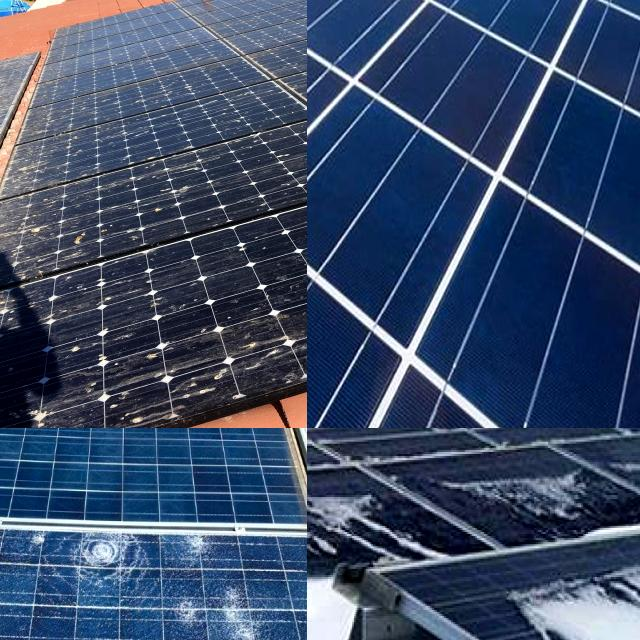crack: (307, 0, 640, 428)
dust: (164, 169, 307, 299), (0, 336, 196, 425), (7, 186, 129, 310), (46, 70, 114, 172), (245, 331, 307, 371)
hotspot: (170, 589, 265, 640), (71, 538, 159, 590), (170, 538, 242, 580), (0, 524, 34, 602), (18, 520, 56, 563), (0, 592, 20, 640)
panel: (515, 534, 640, 640), (449, 460, 598, 538), (307, 460, 397, 523), (354, 539, 439, 589)
